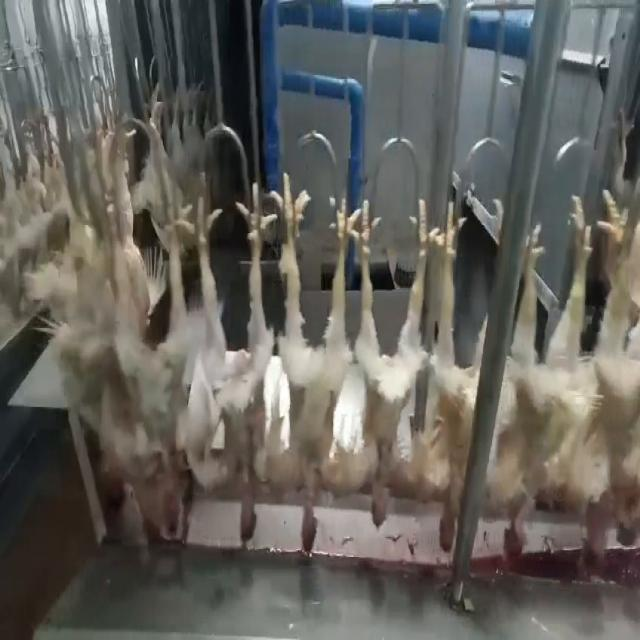chicken: (484, 195, 593, 572), (264, 174, 362, 554), (178, 175, 267, 543), (346, 192, 434, 534), (425, 192, 489, 555), (116, 185, 178, 542), (584, 191, 639, 552)
